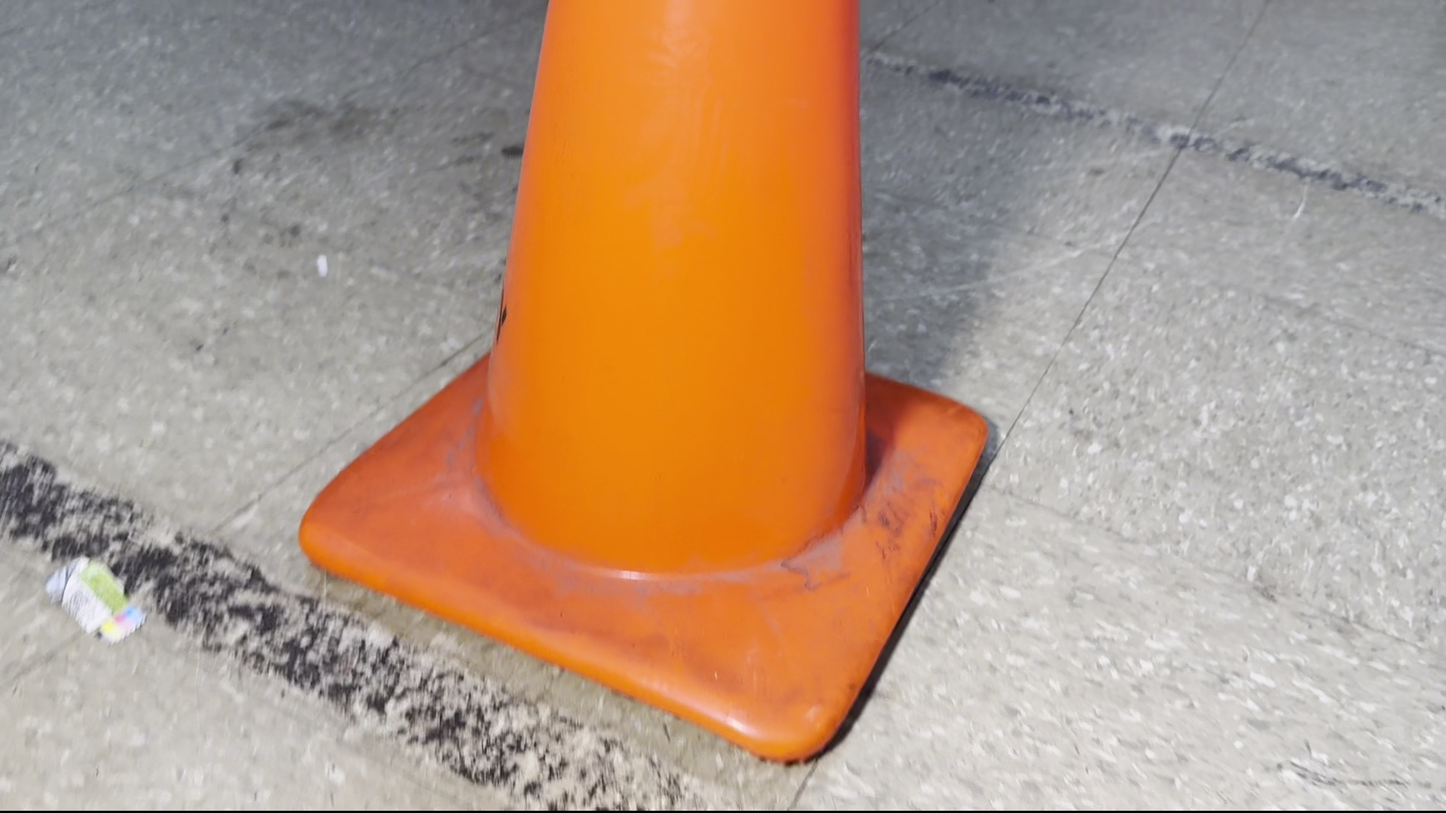traffic_cone: (297, 1, 992, 766)
